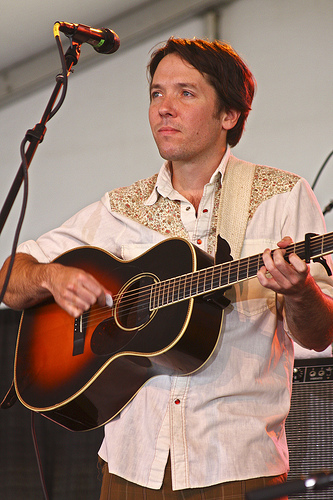guitar: (12, 231, 333, 432)
